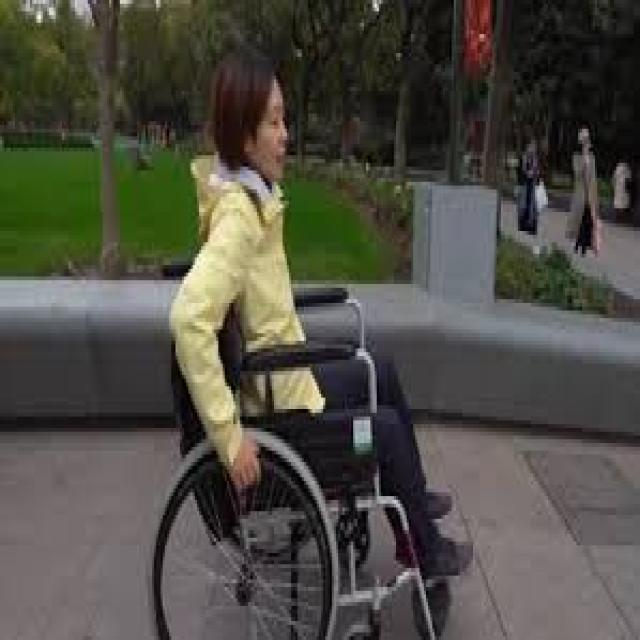wheelchairs: (137, 262, 454, 636)
